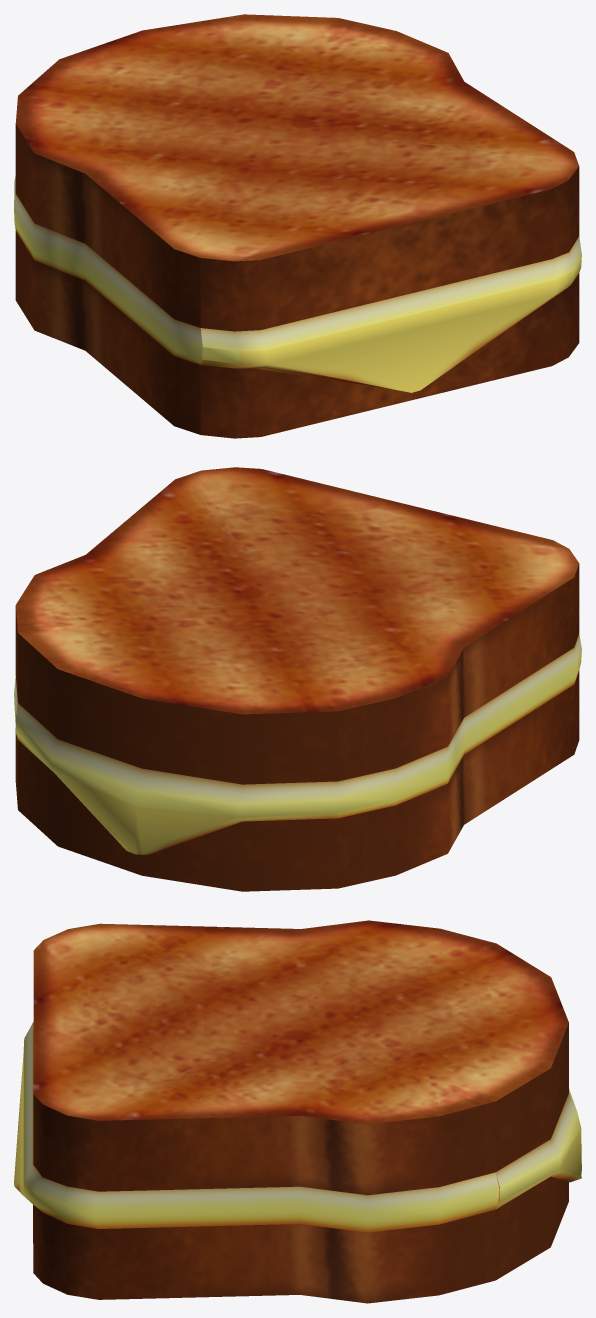
File: 007-Sandwich_Cheese.FBX
The picture shows the model from 3 angles, top to bottom: view 1: azimuth 30°, elevation 25°; view 2: azimuth 150°, elevation 25°; view 3: azimuth 270°, elevation 25°; orthographic projection.
Parts seen in each view (by area): view 1: 007-Sandwich_Cheese; view 2: 007-Sandwich_Cheese; view 3: 007-Sandwich_Cheese.
Part boxes in pixels (<box>): 007-Sandwich_Cheese: <box>14,14,581,438</box>; 007-Sandwich_Cheese: <box>14,467,581,891</box>; 007-Sandwich_Cheese: <box>14,920,581,1303</box>.
Bounding box in the file's own units: 16.49 × 6.74 × 19.37.
